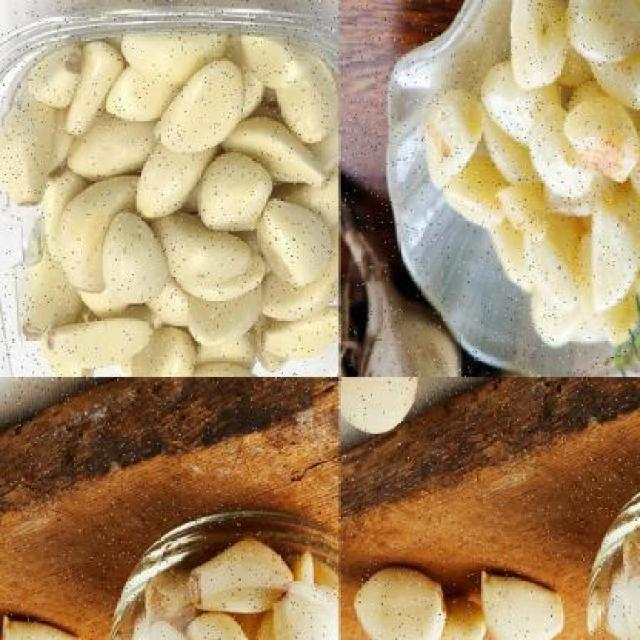garlic: (0, 36, 338, 376), (416, 0, 638, 355), (97, 152, 268, 352), (122, 540, 338, 638), (349, 250, 463, 376), (152, 209, 272, 309), (26, 41, 130, 146), (348, 566, 486, 640), (186, 538, 296, 618), (132, 123, 222, 219), (155, 58, 248, 148), (99, 205, 180, 306), (422, 86, 492, 191), (198, 146, 276, 238), (586, 193, 640, 315), (480, 566, 569, 640), (564, 96, 638, 182), (37, 316, 157, 368), (507, 0, 567, 90), (338, 376, 424, 438), (1, 612, 90, 640)
